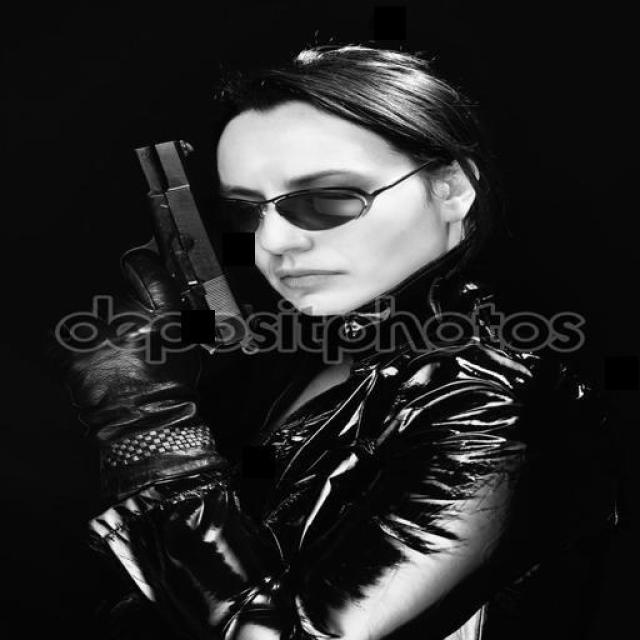gun: (85, 138, 276, 352)
